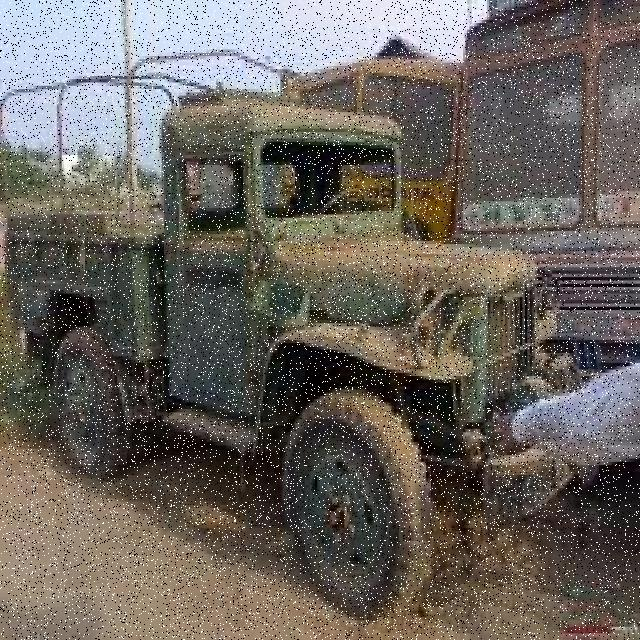MIL_MBT: (74, 38, 616, 625)
